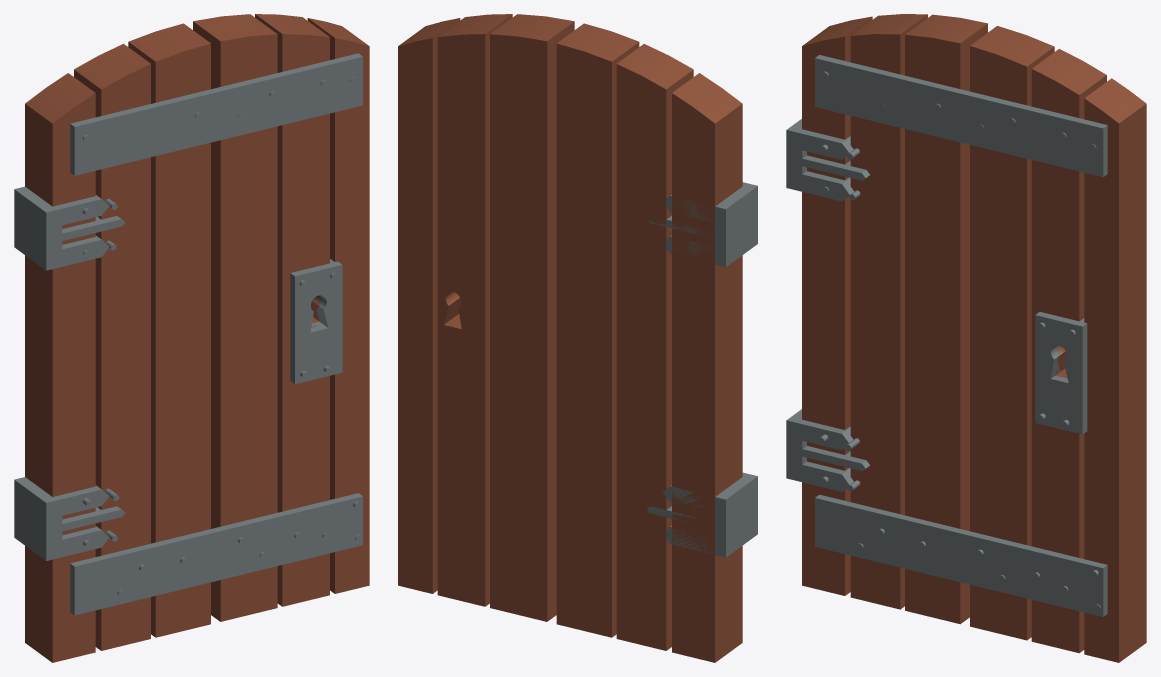
Rendered from Door.fbx.
3 views of the same model, side by side, from view 1: azimuth 30°, elevation 25°; view 2: azimuth 150°, elevation 25°; view 3: azimuth 330°, elevation 25° (orthographic).
Visible parts, largest first — view 1: Body15, Body6, Body11, Body14, Body12, Body13, Body16, Body10, Body8, Body9, Body7; view 2: Body15, Body6, Body11, Body14, Body12, Body13, Body9, Body8; view 3: Body13, Body6, Body15, Body14, Body12, Body11, Body16, Body10, Body7, Body8, Body9.
Boxes of the visible parts, <box> form: Body15: <box>193,14,277,621</box>; Body6: <box>128,23,210,637</box>; Body11: <box>25,73,95,662</box>; Body14: <box>74,44,150,650</box>; Body12: <box>255,14,329,606</box>; Body13: <box>307,18,369,593</box>; Body16: <box>70,53,362,175</box>; Body10: <box>70,493,362,615</box>; Body8: <box>14,186,125,270</box>; Body9: <box>14,477,125,560</box>; Body7: <box>290,259,342,384</box>; Body15: <box>490,14,574,621</box>; Body6: <box>556,23,639,637</box>; Body11: <box>672,73,742,662</box>; Body14: <box>616,44,693,650</box>; Body12: <box>437,14,512,606</box>; Body13: <box>398,18,460,593</box>; Body9: <box>647,472,757,557</box>; Body8: <box>647,182,757,267</box>; Body13: <box>1084,78,1146,662</box>; Body6: <box>905,14,987,624</box>; Body15: <box>970,26,1054,640</box>; Body14: <box>850,14,927,609</box>; Body12: <box>1031,49,1106,653</box>; Body11: <box>802,16,872,595</box>; Body16: <box>815,55,1107,177</box>; Body10: <box>815,494,1107,616</box>; Body7: <box>1035,312,1087,434</box>; Body8: <box>786,119,869,201</box>; Body9: <box>786,409,870,491</box>.
Size of the model in its own units: 290 by 490 by 55.44.
